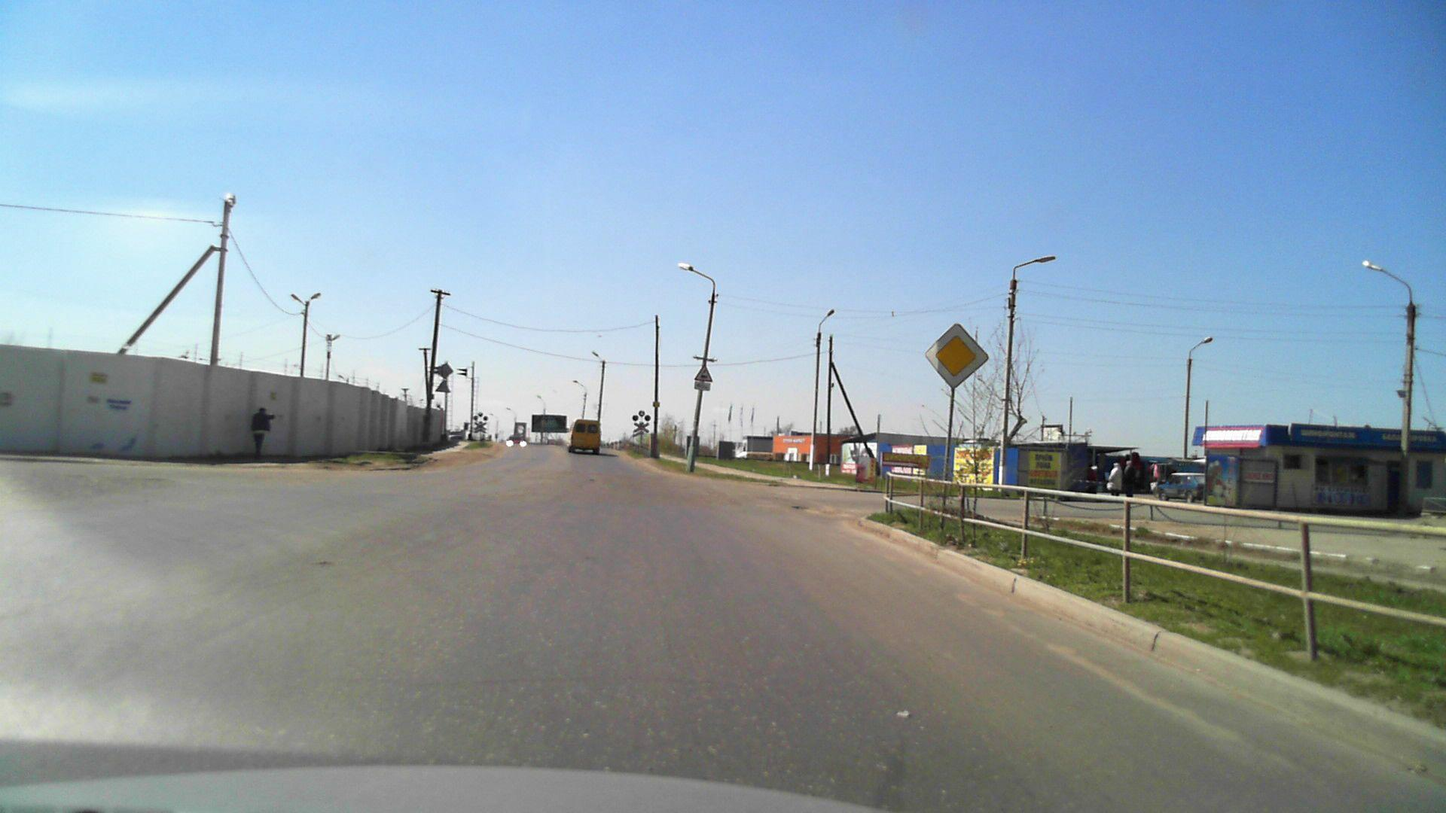road_sign: (921, 321, 991, 390), (692, 364, 715, 383)
